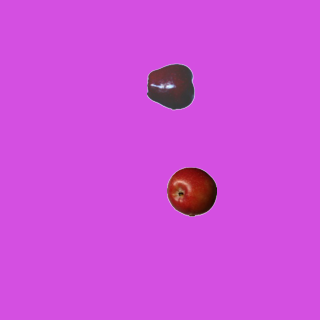Apple Braeburn: (166, 166, 216, 216)
Apple Red Delicious: (146, 61, 196, 111)
